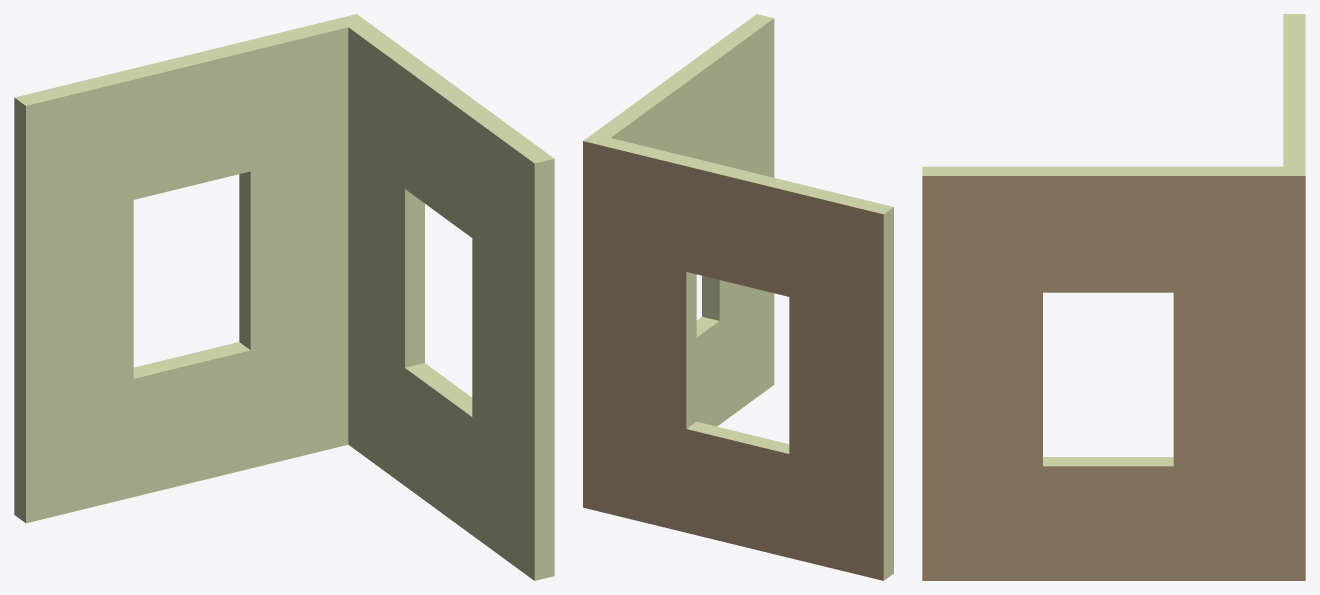
File: Wall2_C5_09.fbx
The picture shows the model from 3 angles, left to right: view 1: azimuth 30°, elevation 25°; view 2: azimuth 150°, elevation 25°; view 3: azimuth 270°, elevation 25°; orthographic projection. The views are drawn at different scales.
Parts seen in each view (by area): view 1: Wall2_C5_09; view 2: Wall2_C5_09; view 3: Wall2_C5_09.
Part boxes in pixels (box(x1,y1,x2,y2)): Wall2_C5_09: box(14, 14, 554, 580); Wall2_C5_09: box(583, 14, 893, 580); Wall2_C5_09: box(922, 14, 1305, 580).
Size of the model in its own units: 258 by 300 by 258.
